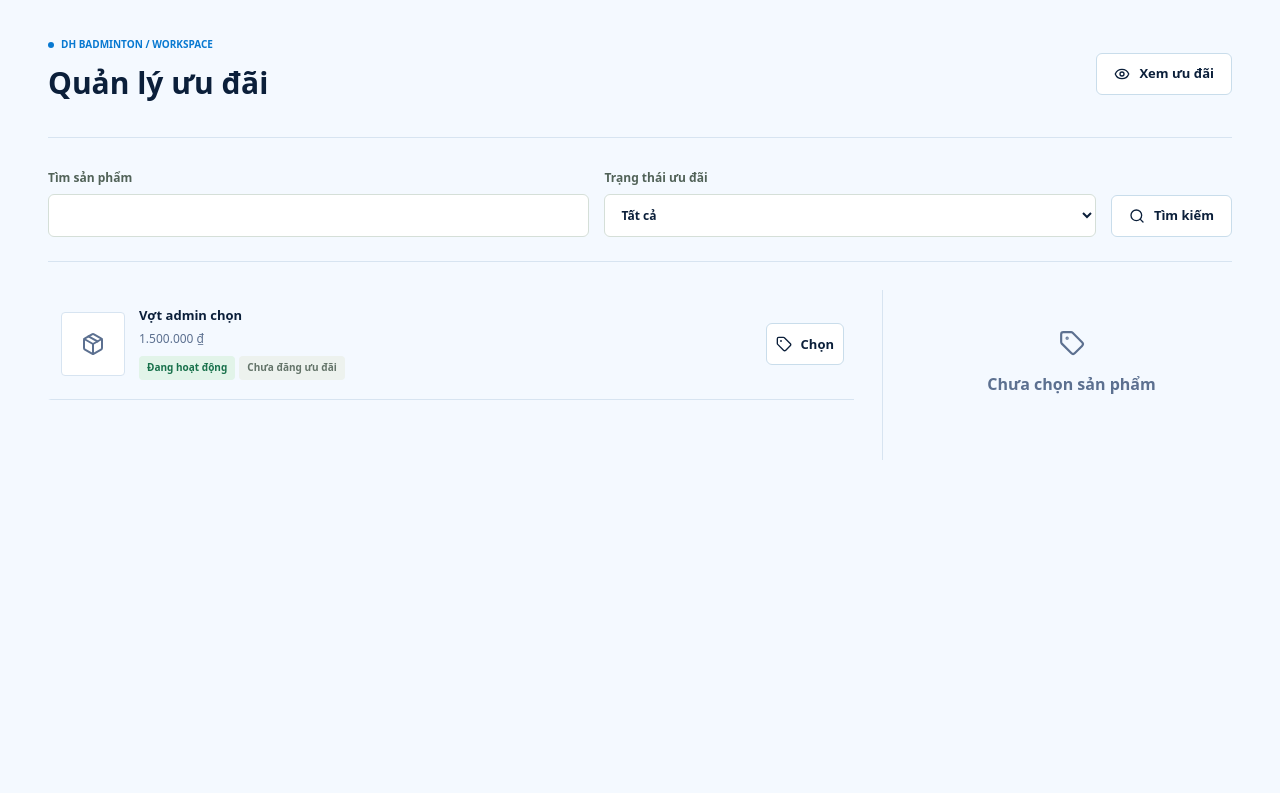
Scenario: keeps values and allows retry after a server error
What coordinates should you click on to do the following:
click the button with aria-label "Chọn Vợt admin chọn"
I would click on:
 (805, 344)
Its box is [766,323,844,365].
(page scrolled)
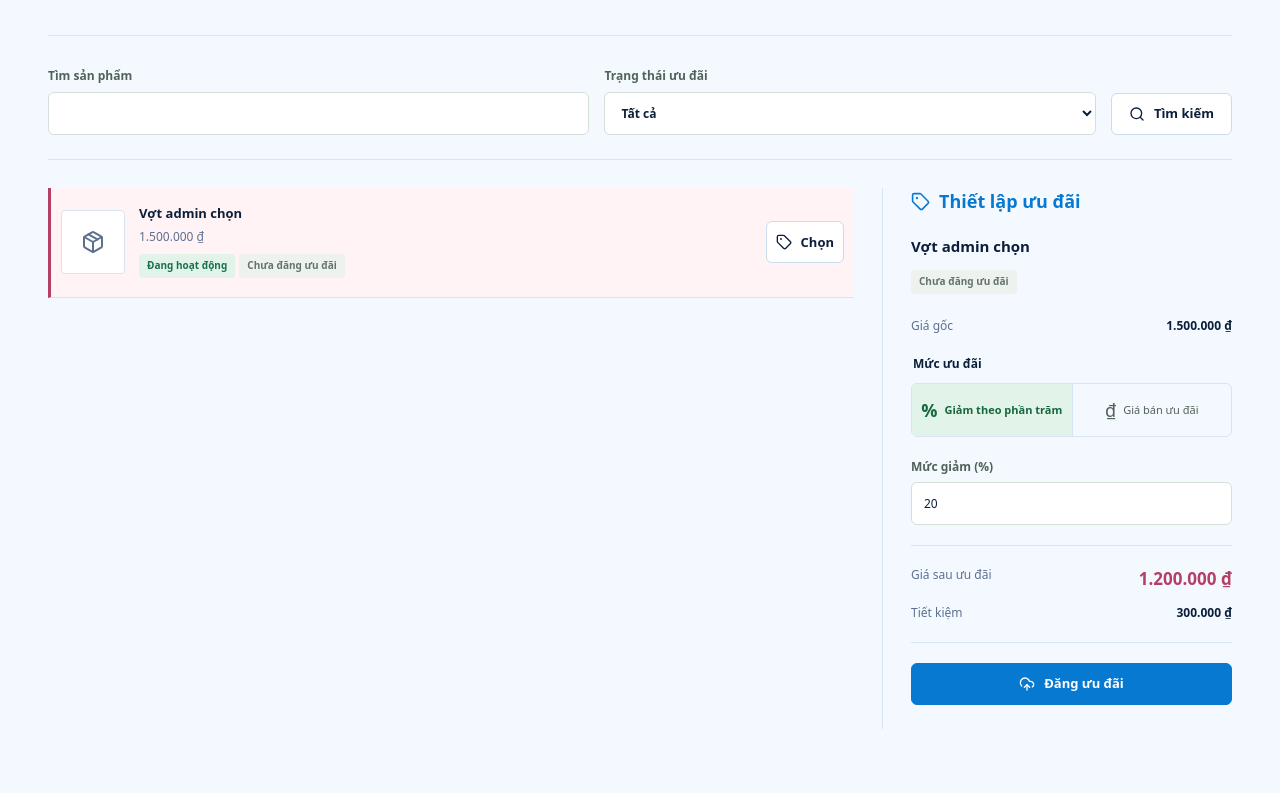
What coordinates should you click on to do the following:
click the button "Đăng ưu đãi"
I would click on:
 (1072, 684)
Its box is [911,663,1232,705].
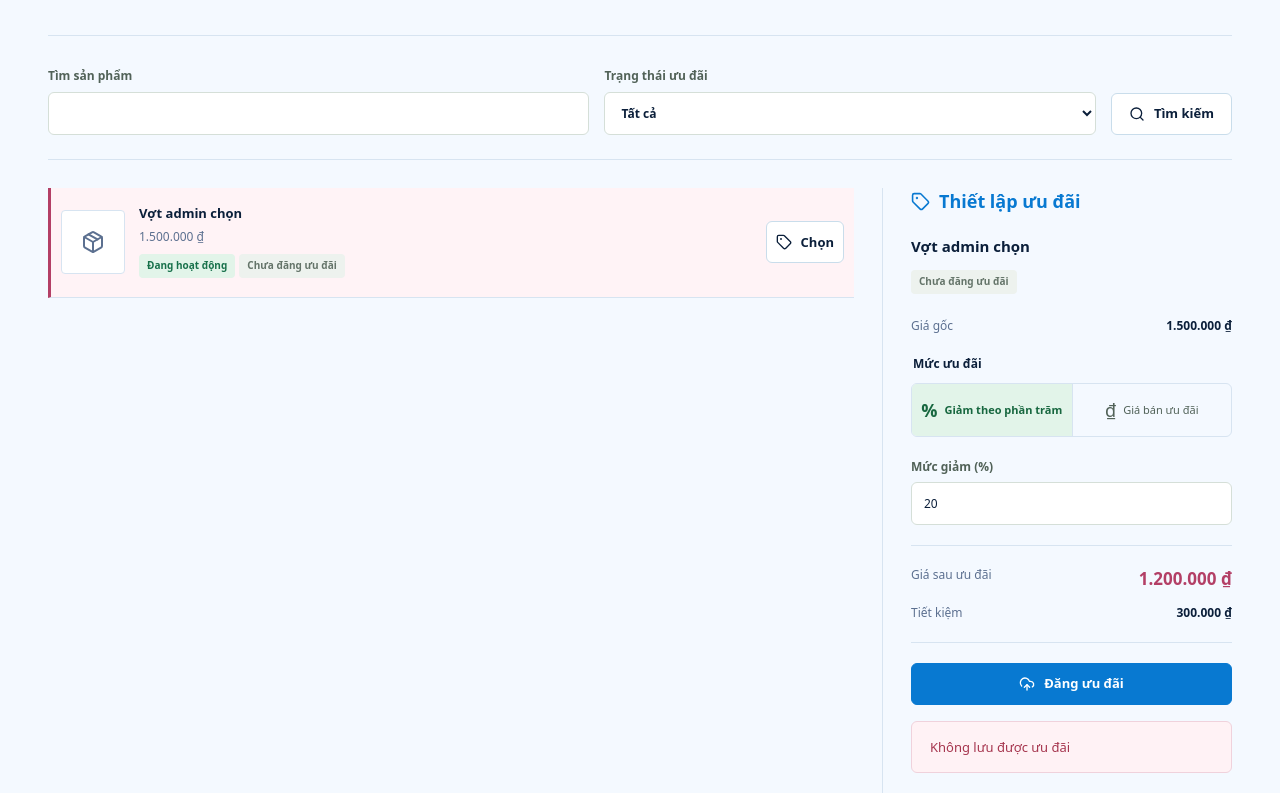
Now the number field labelled "Mức giảm (%)" holds "20", box [911,482,1232,525]
Now the message reads "Không lưu được ưu đãi", box [930,738,1070,756]
What coordinates should you click on to do the following:
click the button "Đăng ưu đãi"
I would click on:
 (1072, 684)
Its box is [911,663,1232,705].
(page scrolled)
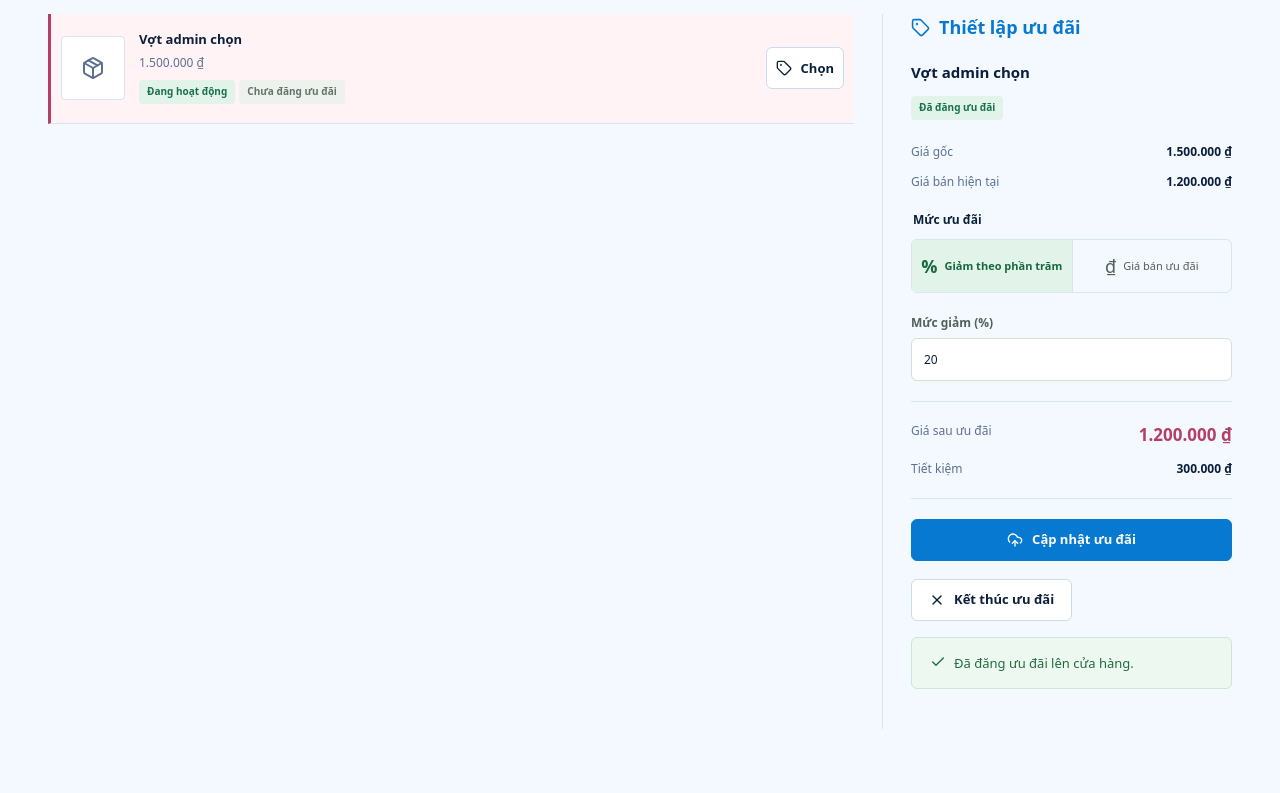
Now the text "Đã đăng ưu đãi lên cửa hàng." is shown, box [911,637,1232,689]
